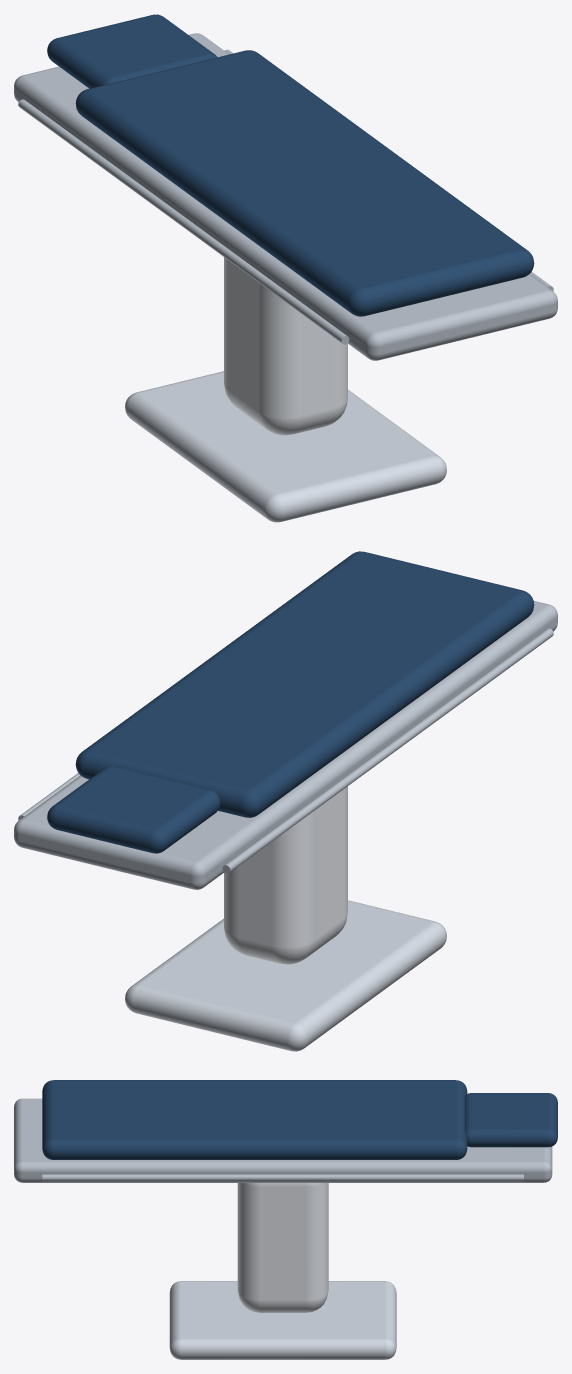
File: operating-table.glb
3 views of the same model, one above another, from view 1: azimuth 30°, elevation 25°; view 2: azimuth 150°, elevation 25°; view 3: azimuth 270°, elevation 25° (orthographic). The views are drawn at different scales.
Visible parts, largest first — view 1: operating-table; view 2: operating-table; view 3: operating-table.
Boxes of the visible parts, x1=… form: operating-table: x1=14, y1=14, x2=557, y2=522; operating-table: x1=14, y1=551, x2=557, y2=1051; operating-table: x1=14, y1=1080, x2=557, y2=1359.
Bounding box in the file's own units: 0.644 × 0.86 × 1.92.
